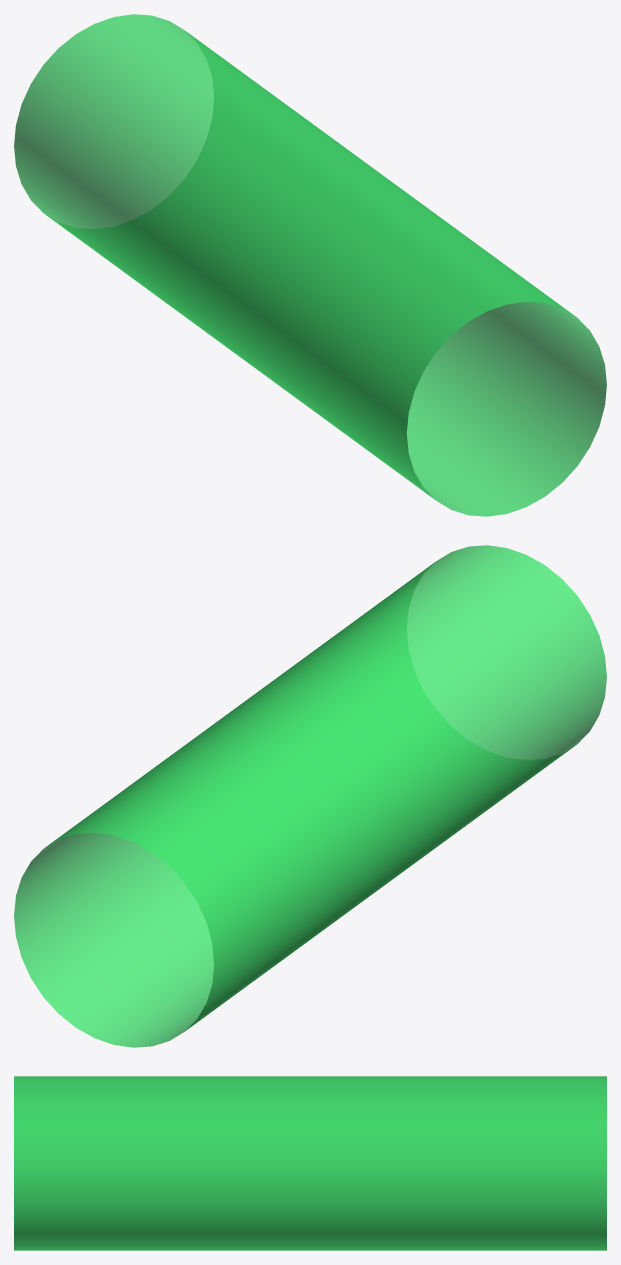
File: laser.fbx
3 renders of one model, top to bottom at view 1: azimuth 30°, elevation 25°; view 2: azimuth 150°, elevation 25°; view 3: azimuth 270°, elevation 25°, orthographic. The views are drawn at different scales.
Visible parts, largest first — view 1: Cylinder; view 2: Cylinder; view 3: Cylinder.
Part boxes in pixels (x1=…): Cylinder: x1=14, y1=14, x2=606, y2=516; Cylinder: x1=14, y1=545, x2=606, y2=1047; Cylinder: x1=14, y1=1076, x2=606, y2=1250.
Size of the model in its own units: 0.2943 by 0.2943 by 1.
